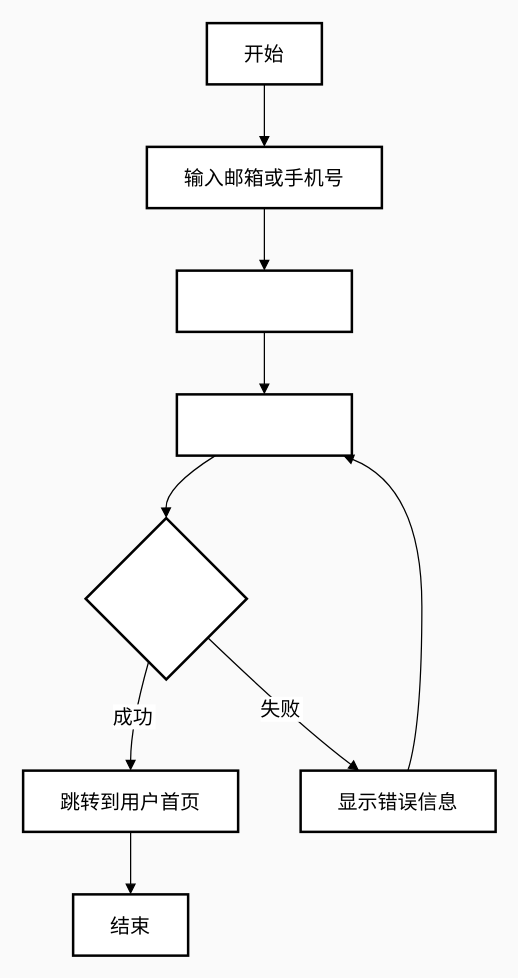
Some shapes in this 518 by 978 pixel diagram are drawn without their labels. Here are the shapes that lost their labels. From the top down, the box of each, then its label:
(175, 269, 352, 332): 发送验证码
(175, 392, 352, 456): 输入验证码
(84, 516, 248, 680): 验证验证码
